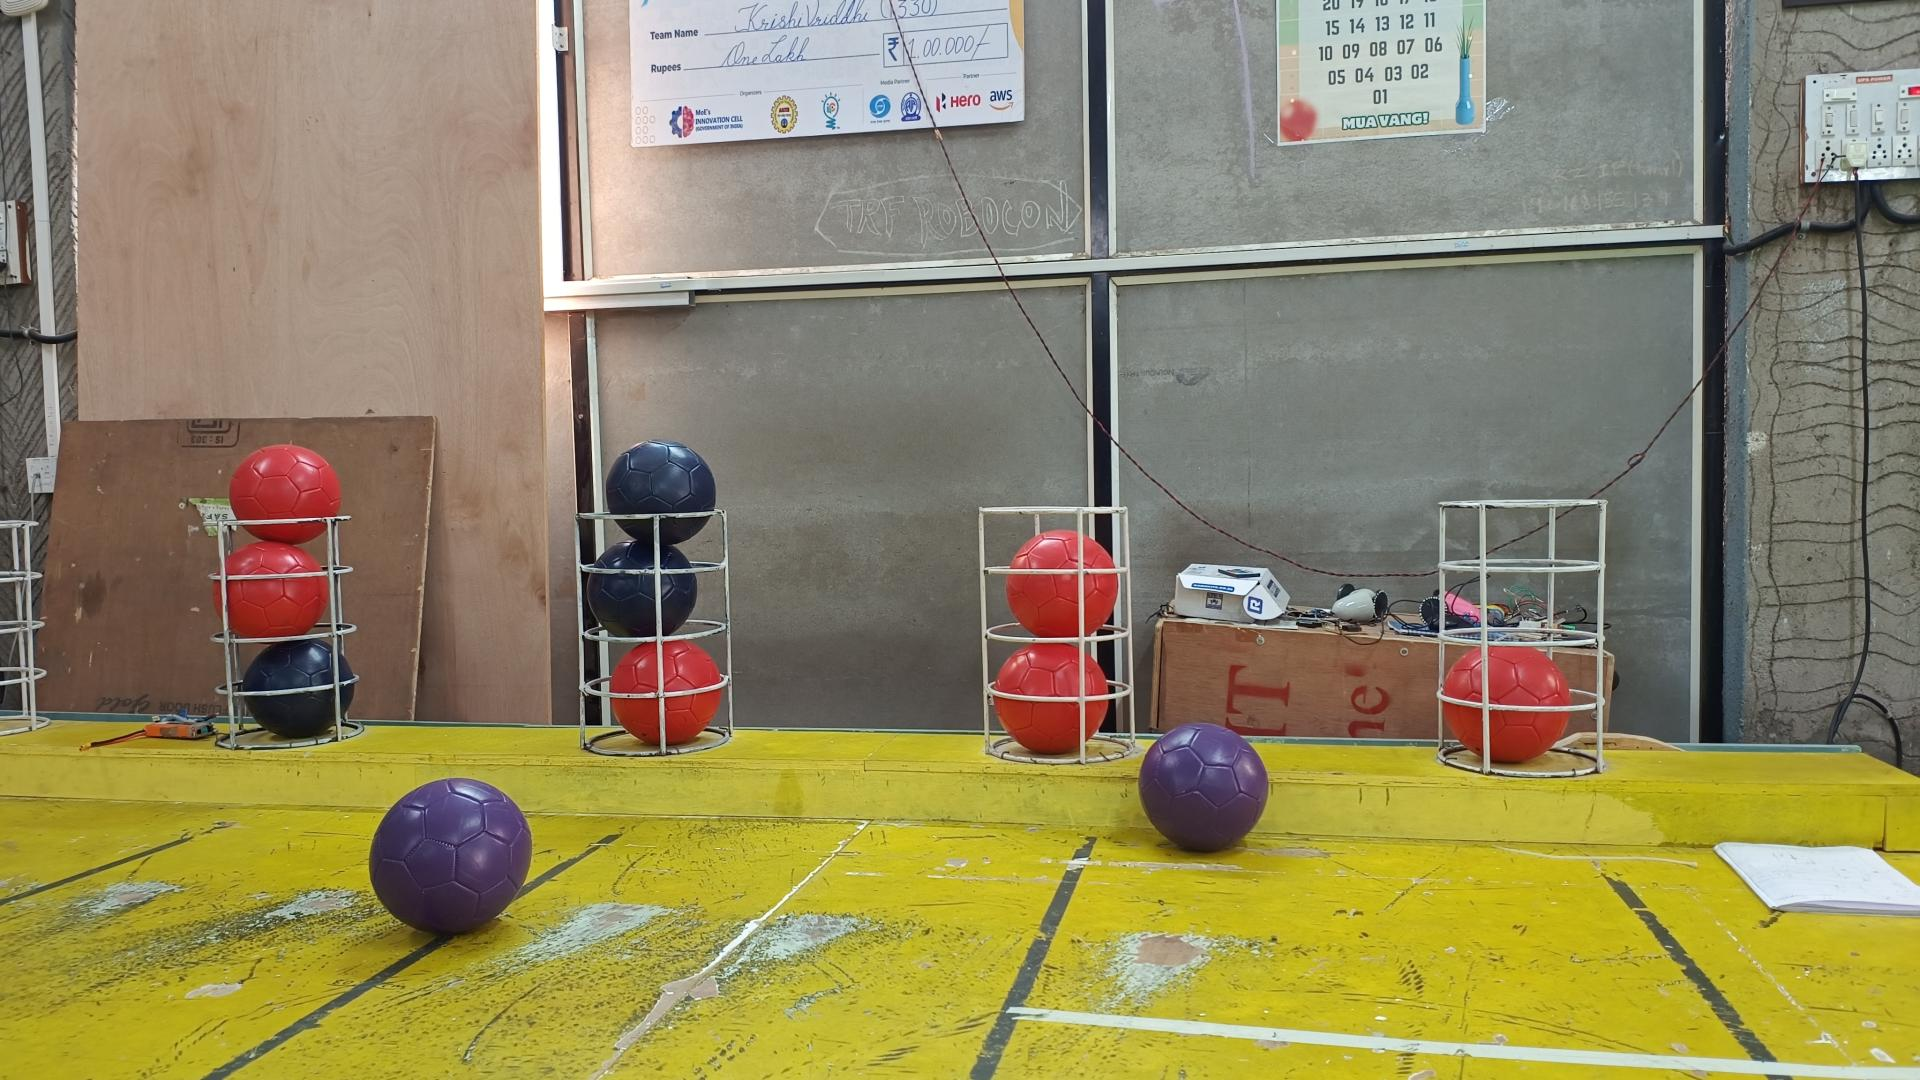dhoka: (604, 438, 716, 546), (244, 641, 356, 742), (585, 541, 699, 638)
laale: (1441, 645, 1572, 765), (993, 641, 1110, 753), (607, 640, 724, 745), (1005, 529, 1117, 638), (228, 442, 342, 543), (212, 543, 328, 641)
